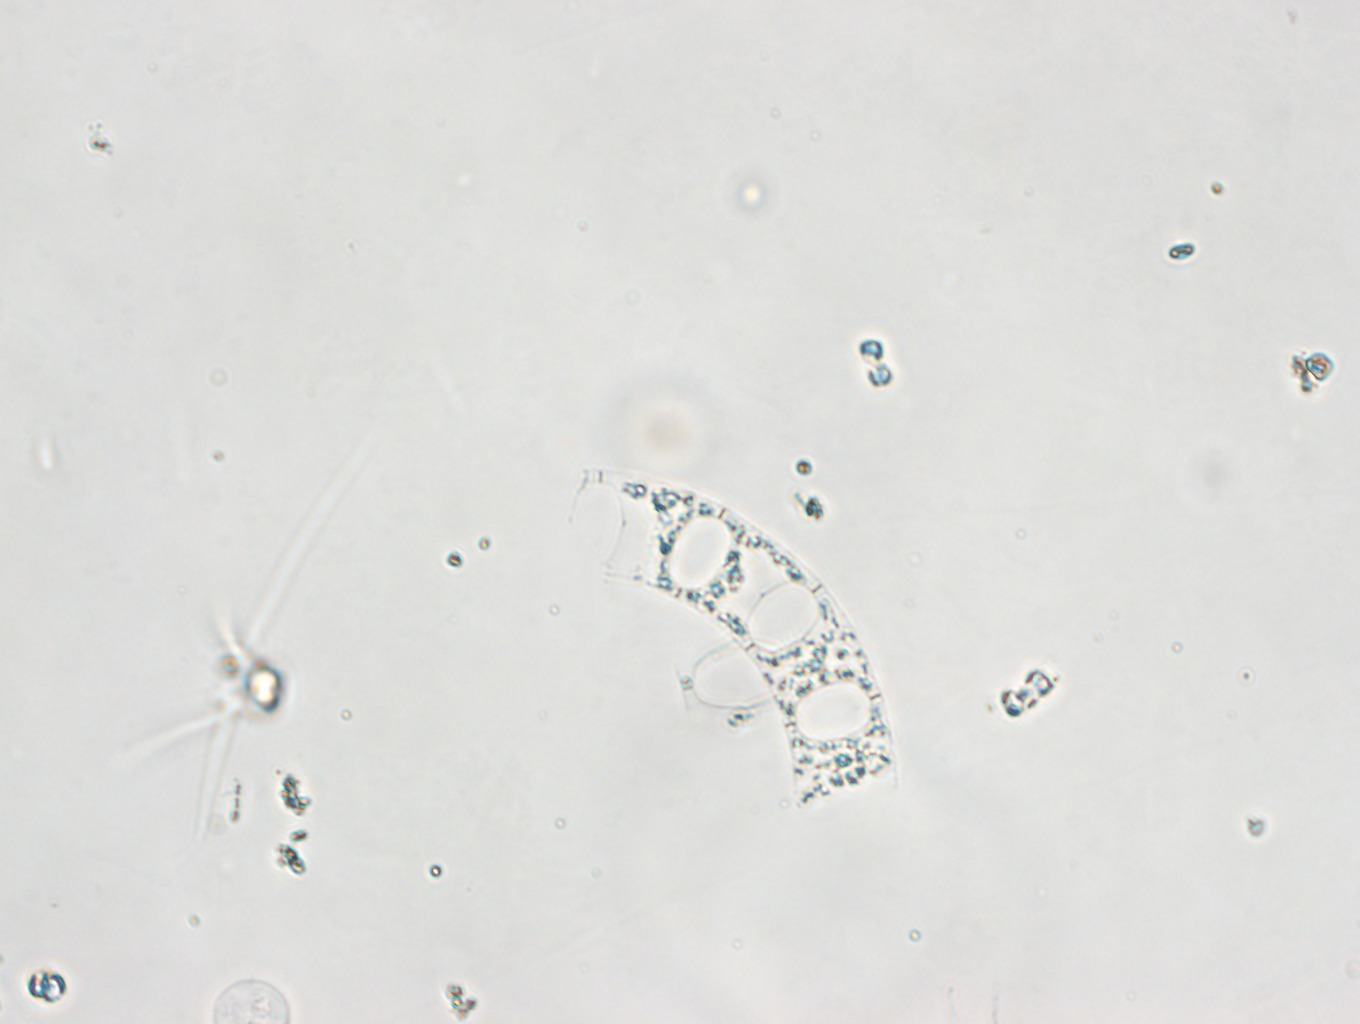eucampia: (554, 460, 894, 816)
